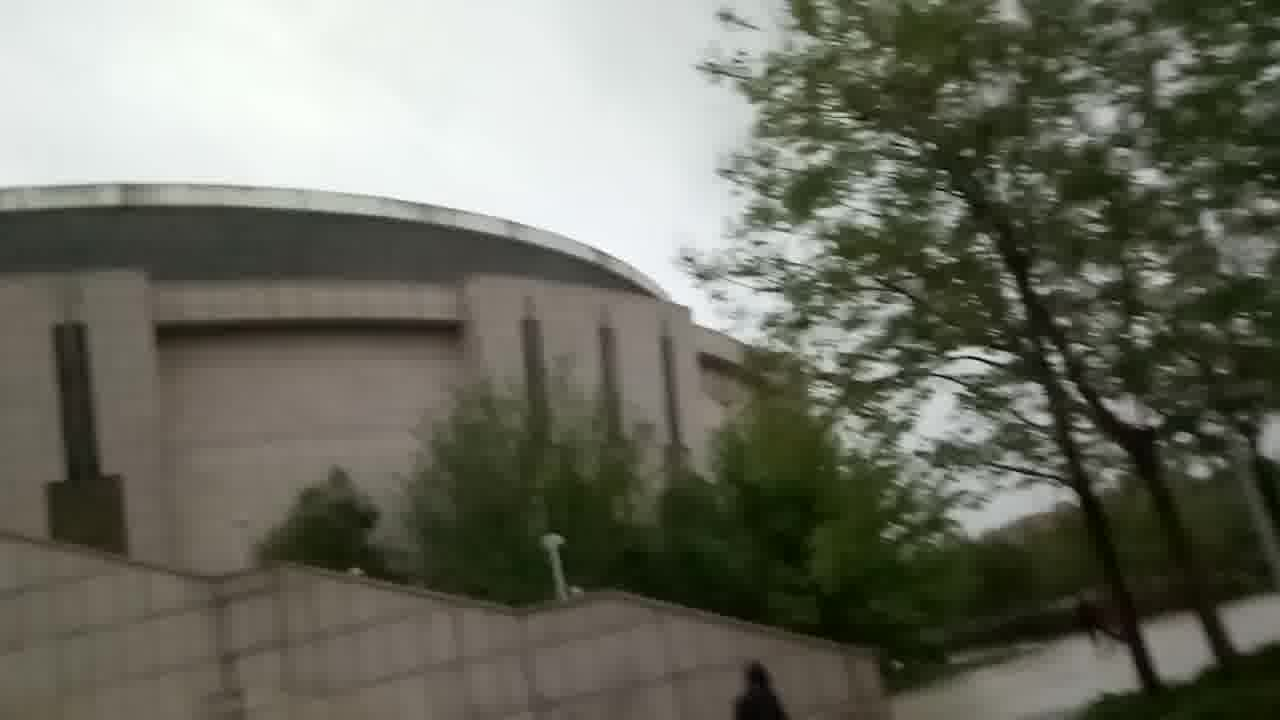zhongtiww: (1, 172, 884, 720)
